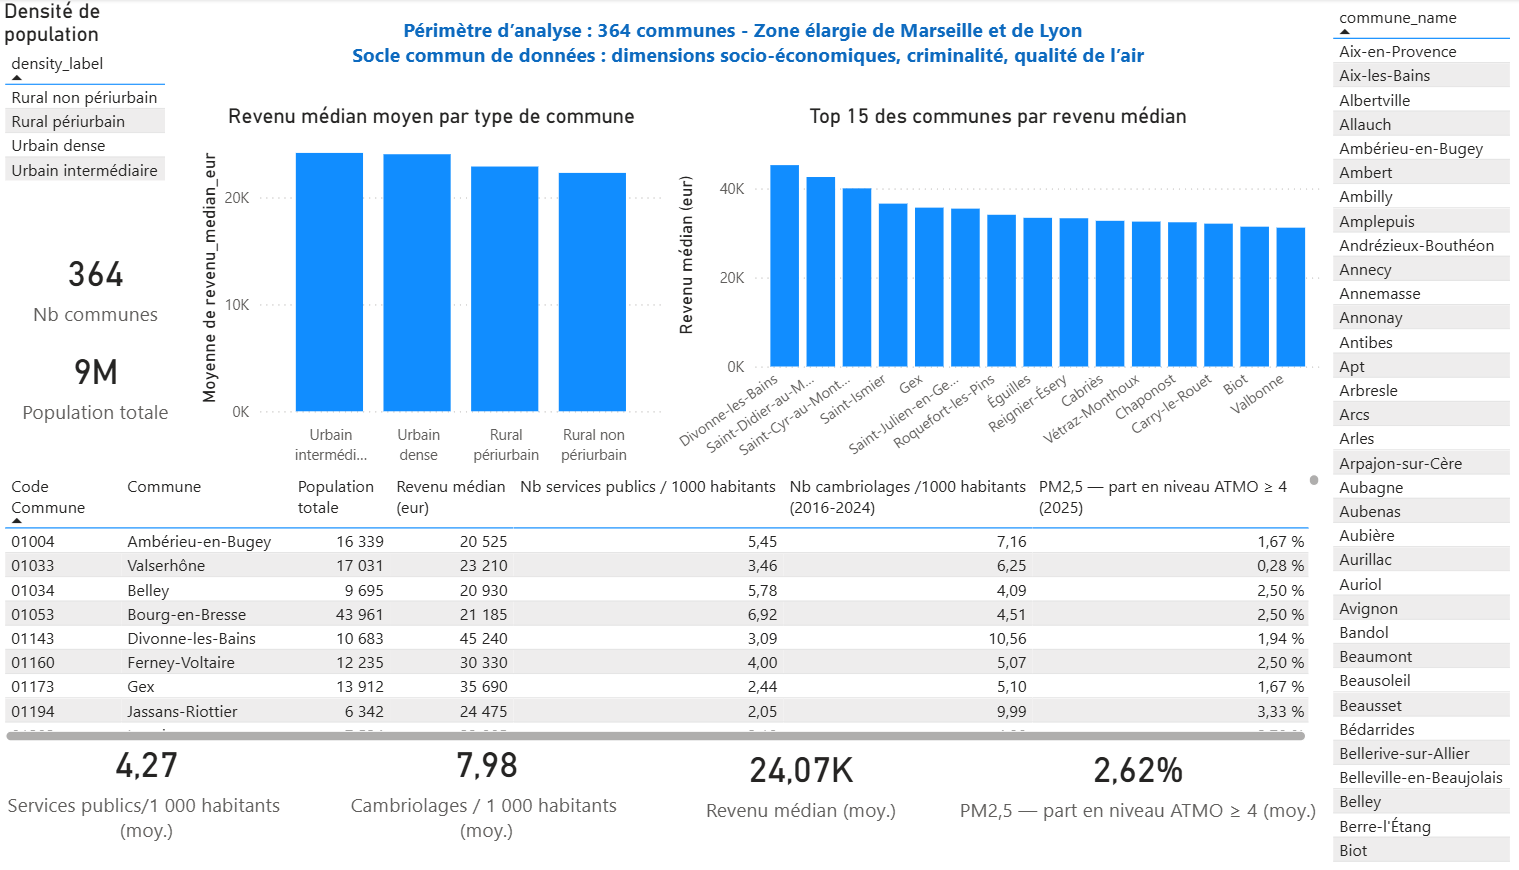

This screenshot's page, from the dashboard's own definition file:
{"tool":"powerbi","page":{"name":"Vue globale","canvas":[1280,720],"ordinal":0},"visuals":[{"type":"tableEx","title":"Densité de population","fields":{"Values":["terrizoom.density_label"]},"box":[0,0,161.1,159.5],"z":0},{"type":"tableEx","fields":{"Values":["terrizoom.commune_name"]},"box":[1097.4,0,182.6,719.8],"z":1000},{"type":"card","fields":{"Values":["terrizoom.Nb communes"]},"box":[0,159.5,161.1,119],"z":2000},{"type":"card","fields":{"Values":["terrizoom.Population totale"]},"box":[0,257,161.1,103.3],"z":3000},{"type":"card","fields":{"Values":["terrizoom.Revenu médian moyen"]},"box":[558.6,618.9,209.9,100.8],"z":4000},{"type":"card","fields":{"Values":["terrizoom.Services publics per 1000 (moy.)"]},"box":[0,618.9,275.2,100.8],"z":5000},{"type":"card","fields":{"Values":["terrizoom.Cambriolages per 1000 (moy.)"]},"box":[300,618.9,258.6,100.8],"z":6000},{"type":"card","fields":{"Values":["terrizoom.PM2.5 niveau ge4 (moy.)"]},"box":[786.7,618.9,310.7,100.8],"z":7000},{"type":"clusteredColumnChart","title":"Top 15 des communes par revenu médian","fields":{"Category":["terrizoom.commune_name"],"Y":["Sum(terrizoom.revenu_median_eur)"]},"box":[555.3,62,542.1,304.9],"z":8000},{"type":"clusteredColumnChart","title":"Revenu médian moyen par type de commune","fields":{"Category":["terrizoom.density_label"],"Y":["Avg(terrizoom.revenu_median_eur)"]},"box":[161.1,62,394.2,304.9],"z":9000},{"type":"tableEx","fields":{"Values":["terrizoom.insee_commune_id","terrizoom.commune_name","Sum(terrizoom.population_total)","Sum(terrizoom.revenu_median_eur)","Sum(terrizoom.count_public_services_per_1000)","Sum(terrizoom.cambriolages_de_logement_per_1000)","Sum(terrizoom.pm25_level_share_ge4)"]},"box":[0,366.9,1097.4,252],"z":10000},{"type":"textbox","box":[138,0,959.4,48.8],"z":10001}]}

Visuals, with their boxes in screenshot pixels (x1, y1, x2, y2), scaled from the page's 1280x720 canvas onto the 1519x870 screenshot:
"Densité de population" tableEx: select_region(0, 0, 191, 193)
tableEx - terrizoom.commune_name: select_region(1302, 0, 1518, 869)
card - terrizoom.Nb communes: select_region(0, 193, 191, 337)
card - terrizoom.Population totale: select_region(0, 311, 191, 435)
card - terrizoom.Revenu médian moyen: select_region(663, 748, 912, 869)
card - terrizoom.Services publics per 1000 (moy.): select_region(0, 748, 327, 869)
card - terrizoom.Cambriolages per 1000 (moy.): select_region(356, 748, 663, 869)
card - terrizoom.PM2.5 niveau ge4 (moy.): select_region(934, 748, 1302, 869)
"Top 15 des communes par revenu médian" clusteredColumnChart: select_region(659, 75, 1302, 443)
"Revenu médian moyen par type de commune" clusteredColumnChart: select_region(191, 75, 659, 443)
tableEx - terrizoom.insee_commune_id x terrizoom.commune_name: select_region(0, 443, 1302, 748)
textbox: select_region(164, 0, 1302, 59)
